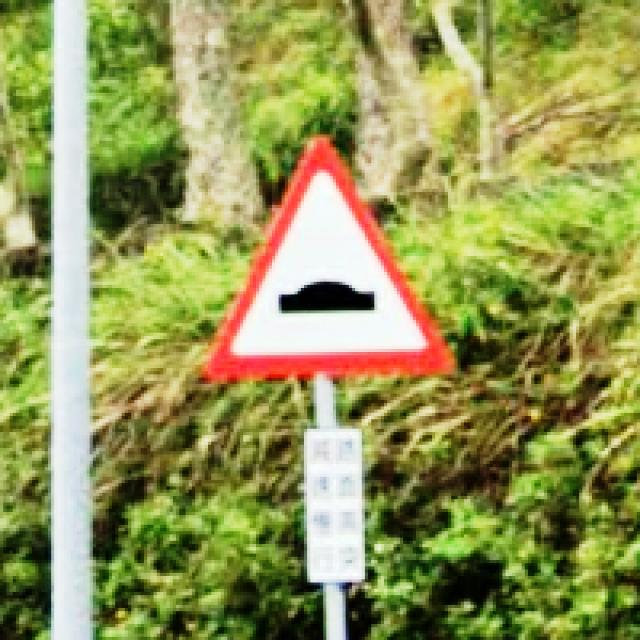hump: (205, 142, 449, 375)
